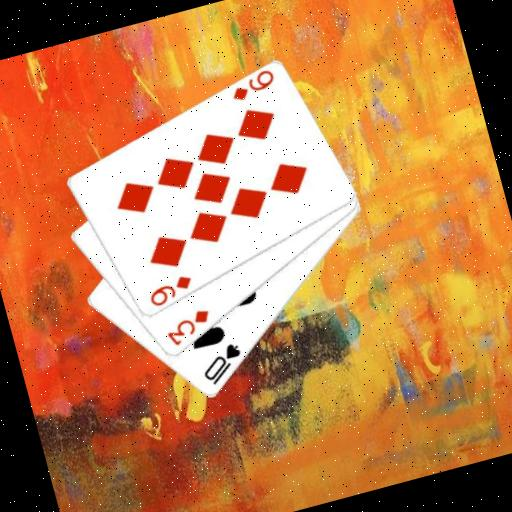10S: (194, 338, 249, 389)
3D: (159, 305, 216, 350)
9D: (142, 270, 197, 310), (224, 66, 279, 106)
